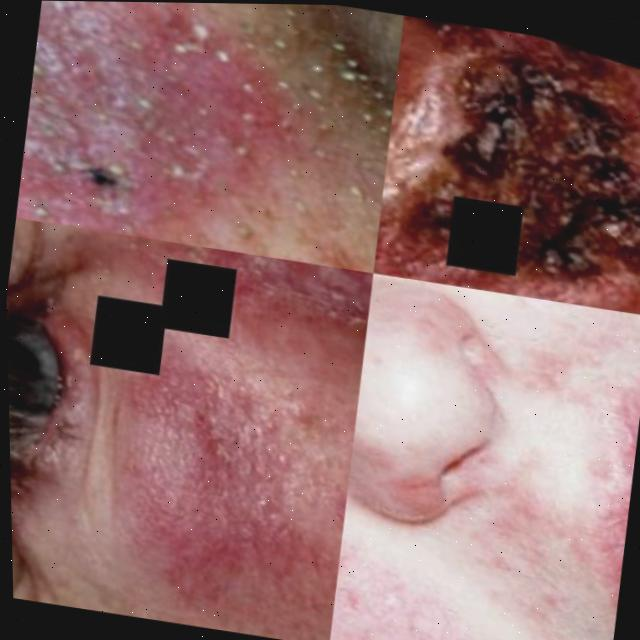lupus-detected: (6, 287, 372, 633), (11, 0, 354, 264), (366, 13, 640, 315), (323, 430, 637, 640), (59, 226, 376, 405), (337, 271, 474, 540)
